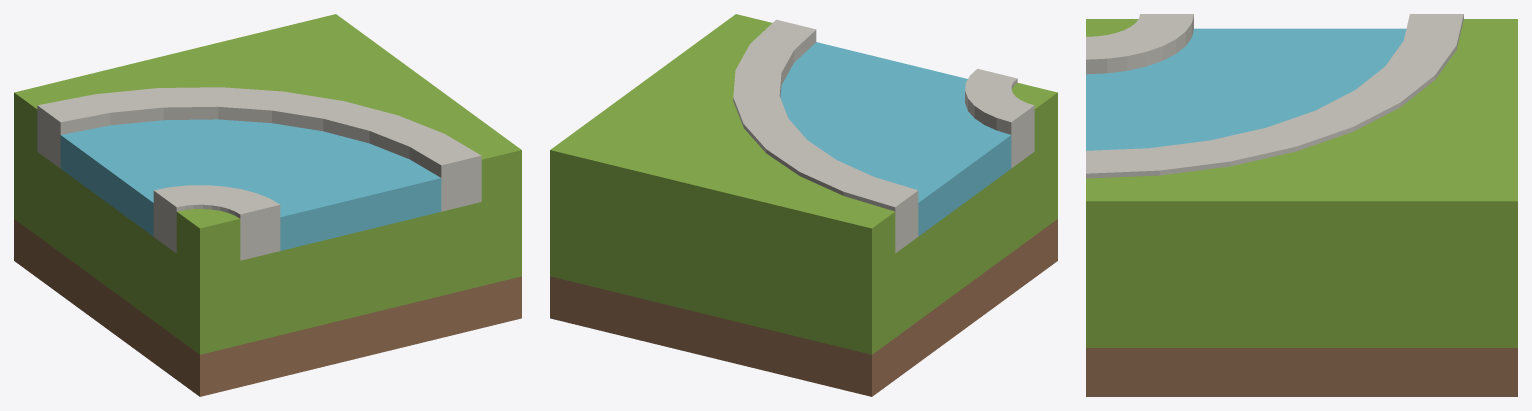
File: canal-corner-high.obj
3 views of the same model, side by side, from view 1: azimuth 30°, elevation 25°; view 2: azimuth 150°, elevation 25°; view 3: azimuth 270°, elevation 25° (orthographic). The views are drawn at different scales.
Visible parts, largest first — view 1: canal-corner-high_Cube.556; view 2: canal-corner-high_Cube.556; view 3: canal-corner-high_Cube.556.
Boxes of the visible parts, box(x1,y1,x2,y2) form: canal-corner-high_Cube.556: box(14, 14, 521, 396); canal-corner-high_Cube.556: box(550, 14, 1057, 396); canal-corner-high_Cube.556: box(1086, 14, 1517, 396).
Size of the model in its own units: 8 by 4.1 by 8.
1 material, 1 textured.
